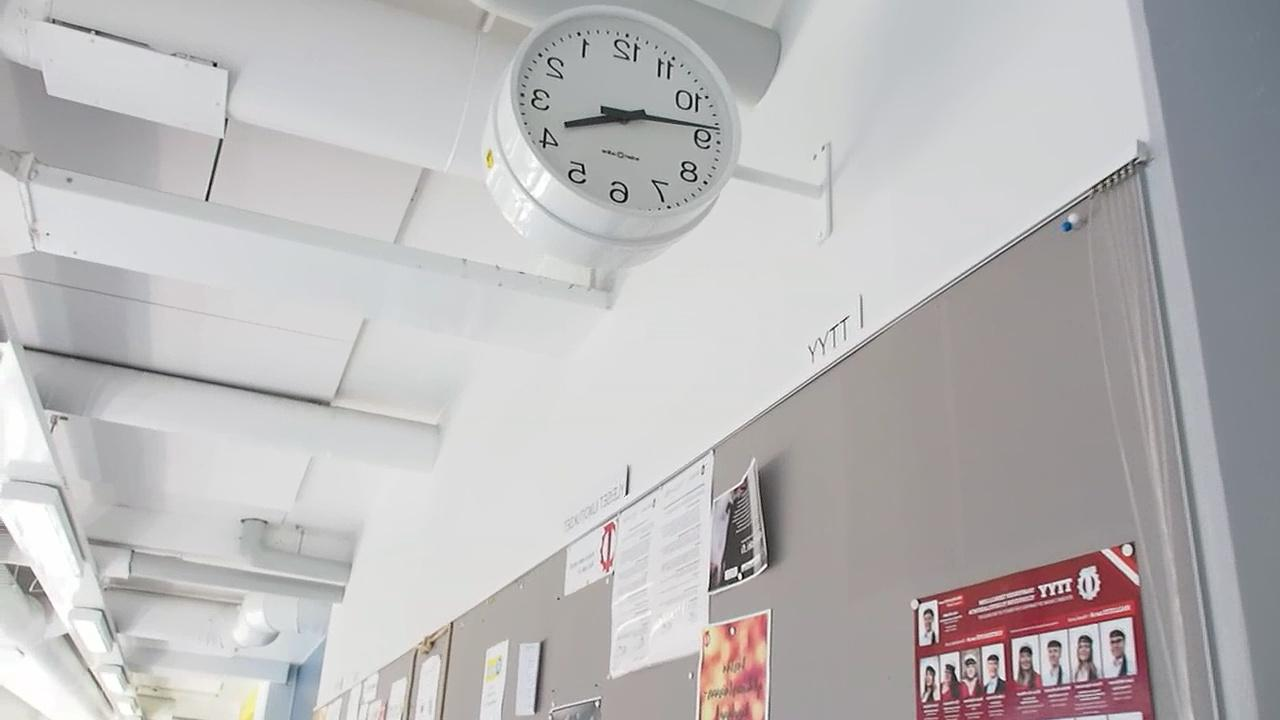clock: (491, 6, 741, 243)
